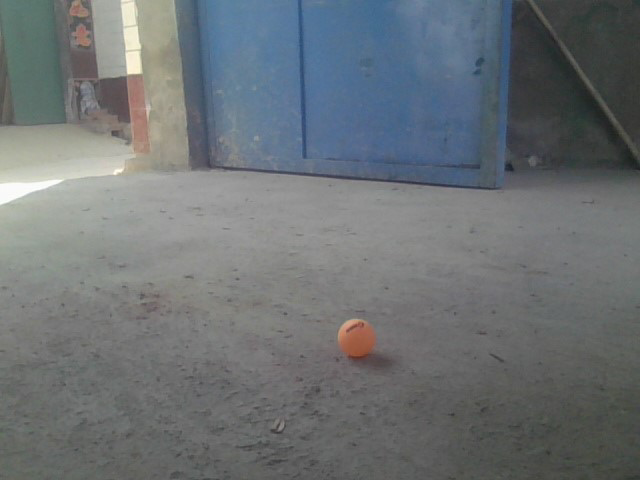ball: (340, 321, 378, 360)
